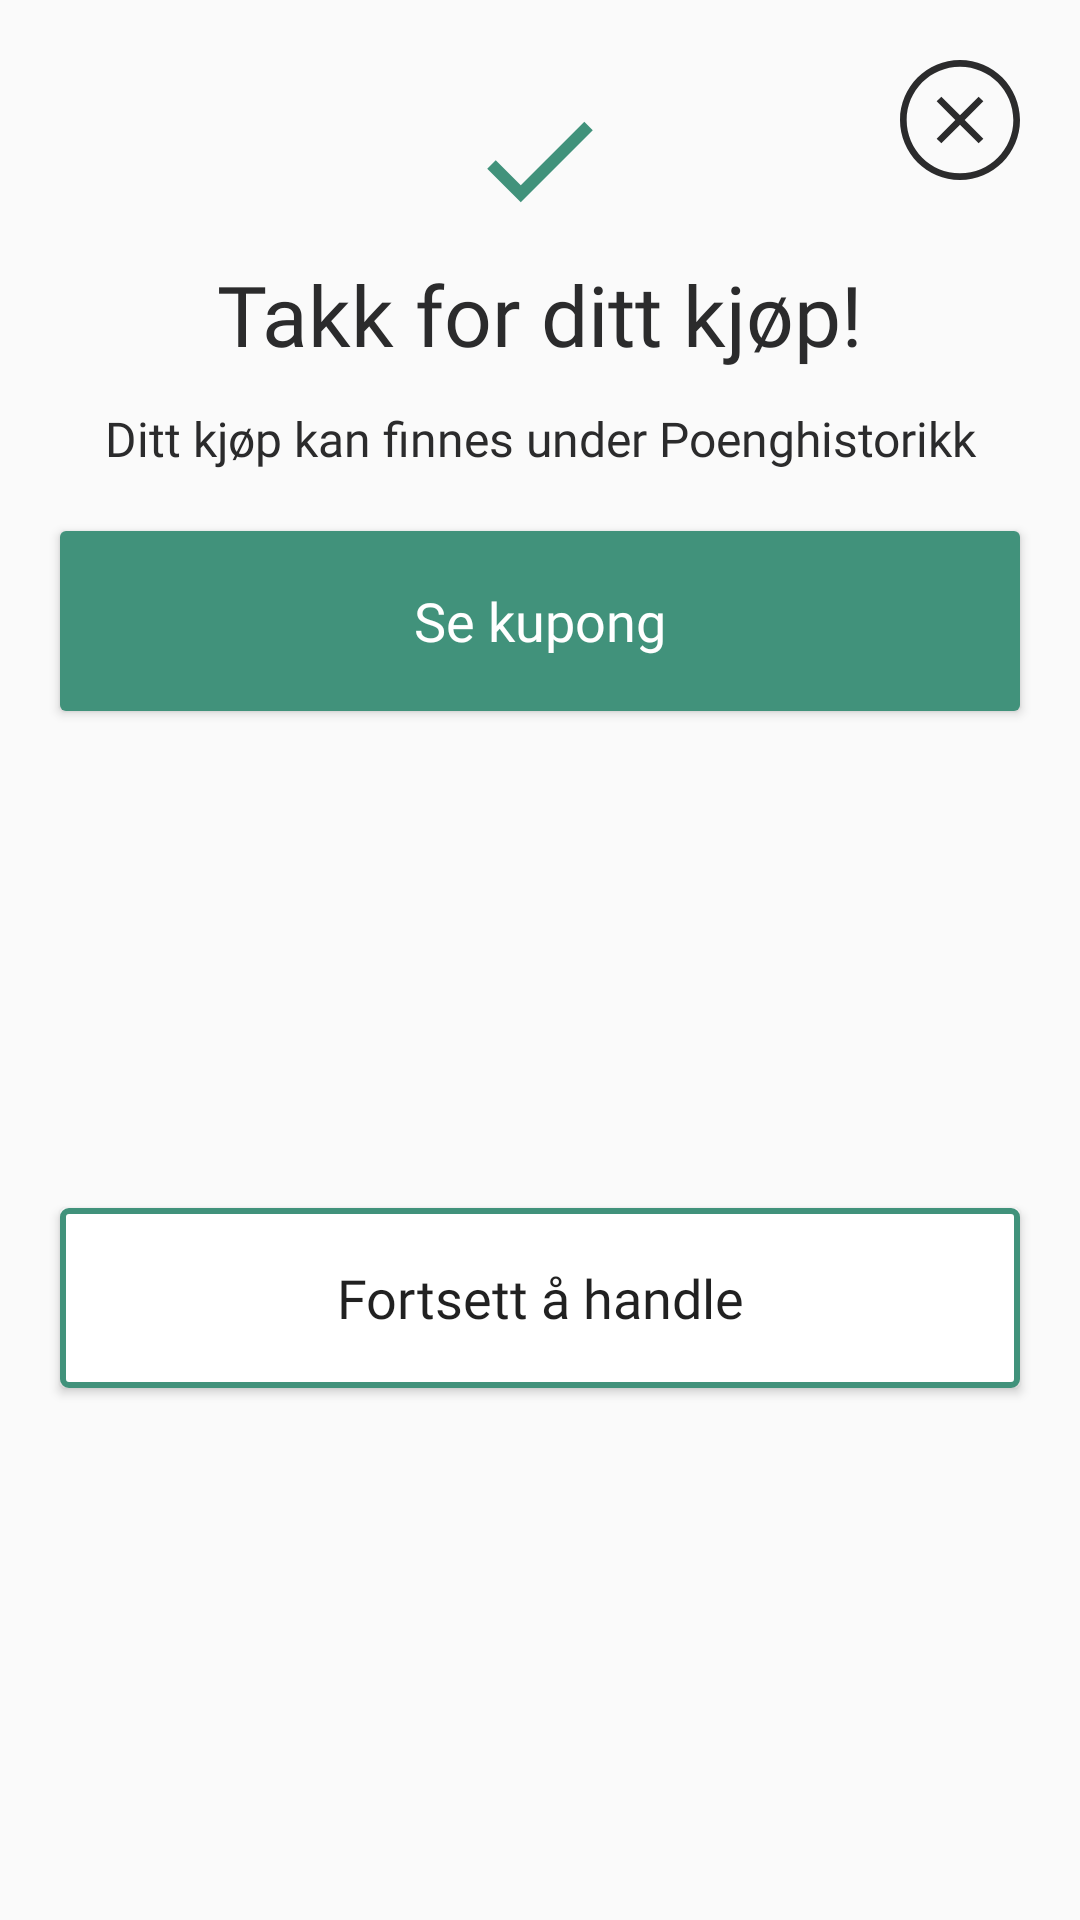

Locate icon controls on the screen. Image size 1080 × 1920, boxes as (x1, y1, x2, y2).
checkicon: (487, 122, 593, 202)
close marker: (900, 60, 1020, 180)
